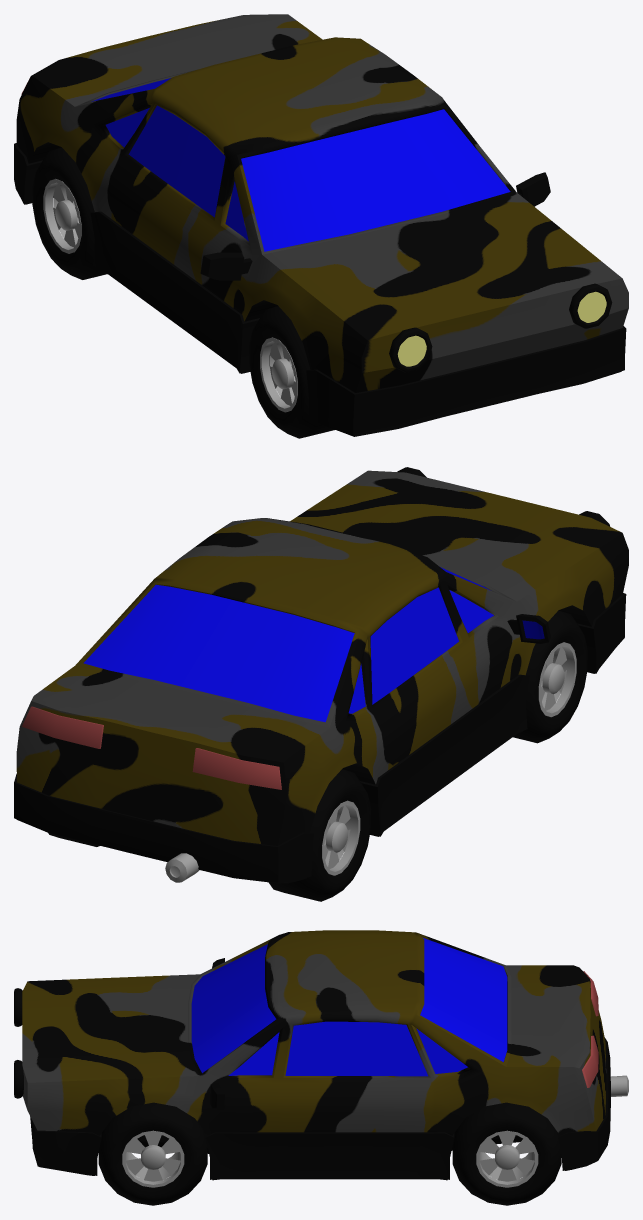
Rendered from Muscle Evolution1 Black ArmyBlackDarkYellow Blue LightGrey.glb.
The picture shows the model from 3 angles, top to bottom: view 1: azimuth 30°, elevation 25°; view 2: azimuth 150°, elevation 25°; view 3: azimuth 270°, elevation 25°; orthographic projection. The views are drawn at different scales.
Visible parts, largest first — view 1: evo1_body4_f1_dupl, evo1_sill0_f1_dupl, evo1_frontGlass_f1_dupl, evo1_glasseBigR_f1_dupl, evo1_tire_rf_f1_dupl, evo1_tire_rf1_f1_dupl, evo1_rim_A_rb_f1_dupl, evo1_rim_A_rf_f1_dupl, evo1_mirorR3_f1_dupl, evo1_blockLightR_f1_dupl, evo1_blockLightL_f1_dupl, evo1_mirorL3_f1_dupl (+4 smaller); view 2: evo1_body4_f1_dupl, evo1_sill0_f1_dupl, evo1_BackGlassGlass_f1_dupl, evo1_glasseBigR_f1_dupl, evo1_tire_rf_f1_dupl, evo1_tire_rf1_f1_dupl, evo1_rim_A_rf_f1_dupl, evo1_rim_A_rb_f1_dupl, evo1_redlightR2_f1_dupl, evo1_redlightL2_f1_dupl, evo1_glassfR_f1_dupl, evo1_pipe1_f1_dupl (+1 smaller); view 3: evo1_body4_f1_dupl, evo1_sill0_f1_dupl, evo1_BackGlassGlass_f1_dupl, evo1_glasseBigL_f1_dupl, evo1_frontGlass_f1_dupl, evo1_tire_lb_f1_dupl, evo1_tire_lf_f1_dupl, evo1_rim_A_lf_f1_dupl, evo1_rim_A_lb_f1_dupl, evo1_glassfL_f1_dupl, evo1_glassbL_f1_dupl, evo1_GroundBody_f1_dupl (+1 smaller).
Part boxes in pixels (bbox=[...]): evo1_body4_f1_dupl: bbox=[16, 14, 628, 392]; evo1_sill0_f1_dupl: bbox=[14, 143, 626, 436]; evo1_frontGlass_f1_dupl: bbox=[241, 109, 510, 251]; evo1_glasseBigR_f1_dupl: bbox=[128, 105, 225, 217]; evo1_tire_rf_f1_dupl: bbox=[32, 147, 107, 279]; evo1_tire_rf1_f1_dupl: bbox=[249, 306, 334, 438]; evo1_rim_A_rb_f1_dupl: bbox=[43, 179, 81, 253]; evo1_rim_A_rf_f1_dupl: bbox=[260, 337, 297, 412]; evo1_mirorR3_f1_dupl: bbox=[200, 252, 252, 280]; evo1_blockLightR_f1_dupl: bbox=[389, 327, 432, 372]; evo1_blockLightL_f1_dupl: bbox=[569, 283, 612, 328]; evo1_mirorL3_f1_dupl: bbox=[516, 172, 550, 206]; evo1_body4_f1_dupl: bbox=[16, 470, 628, 845]; evo1_sill0_f1_dupl: bbox=[14, 593, 626, 882]; evo1_BackGlassGlass_f1_dupl: bbox=[83, 584, 354, 722]; evo1_glasseBigR_f1_dupl: bbox=[370, 587, 458, 704]; evo1_tire_rf_f1_dupl: bbox=[268, 769, 371, 901]; evo1_tire_rf1_f1_dupl: bbox=[513, 610, 587, 743]; evo1_rim_A_rf_f1_dupl: bbox=[538, 642, 576, 717]; evo1_rim_A_rb_f1_dupl: bbox=[322, 800, 360, 875]; evo1_redlightR2_f1_dupl: bbox=[192, 748, 281, 789]; evo1_redlightL2_f1_dupl: bbox=[22, 706, 103, 748]; evo1_glassfR_f1_dupl: bbox=[449, 590, 493, 632]; evo1_pipe1_f1_dupl: bbox=[165, 853, 199, 882]; evo1_body4_f1_dupl: bbox=[22, 930, 606, 1152]; evo1_sill0_f1_dupl: bbox=[30, 1037, 610, 1179]; evo1_BackGlassGlass_f1_dupl: bbox=[420, 937, 507, 1061]; evo1_glasseBigL_f1_dupl: bbox=[285, 1021, 427, 1076]; evo1_frontGlass_f1_dupl: bbox=[191, 944, 276, 1073]; evo1_tire_lb_f1_dupl: bbox=[452, 1102, 561, 1205]; evo1_tire_lf_f1_dupl: bbox=[98, 1102, 207, 1205]; evo1_rim_A_lf_f1_dupl: bbox=[122, 1130, 184, 1187]; evo1_rim_A_lb_f1_dupl: bbox=[476, 1130, 538, 1187]; evo1_glassfL_f1_dupl: bbox=[228, 1032, 279, 1075]; evo1_glassbL_f1_dupl: bbox=[416, 1028, 467, 1073]; evo1_GroundBody_f1_dupl: bbox=[40, 1140, 594, 1180].
Size of the model in its own units: 177 by 112 by 331.
7 materials, 1 textured.
